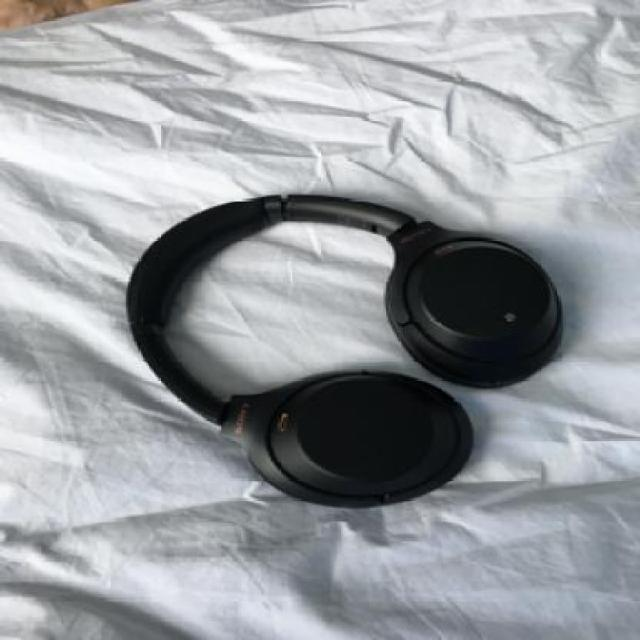earphone: (130, 68, 567, 545)
